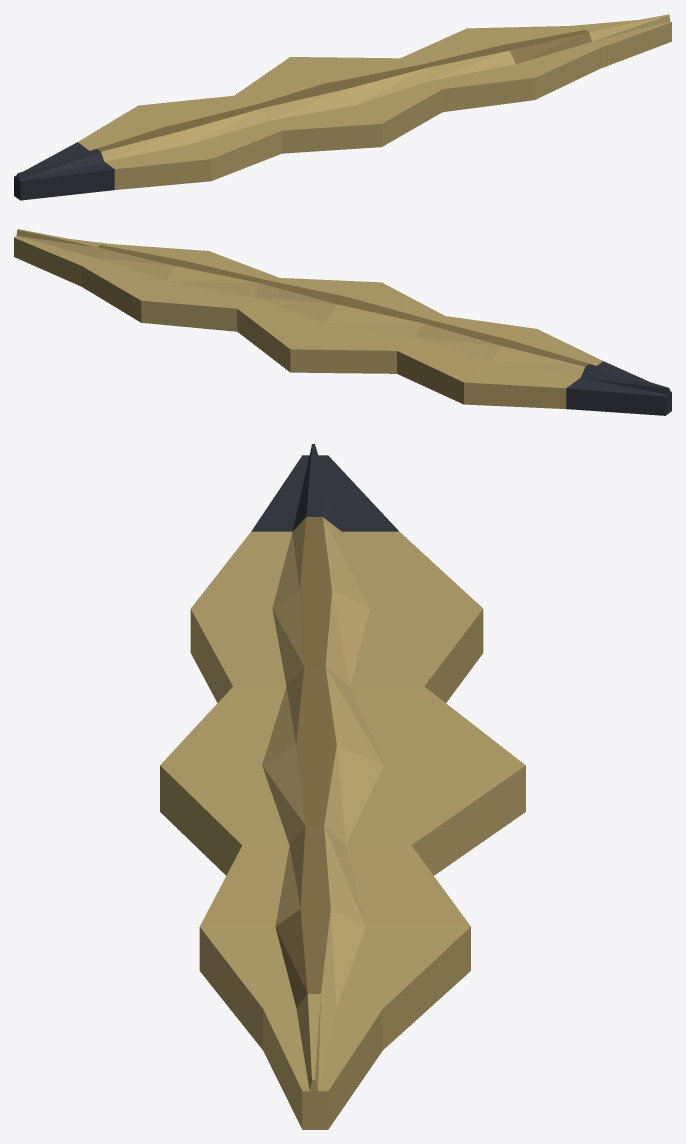
The model's file is feather.glb.
3 views of the same model, one above another, from view 1: azimuth 30°, elevation 25°; view 2: azimuth 150°, elevation 25°; view 3: azimuth 270°, elevation 25° (orthographic). The views are drawn at different scales.
Parts seen in each view (by area): view 1: feather; view 2: feather; view 3: feather.
Boxes of the visible parts, x1,y1,x2,y2 form: feather: (14,14,671,200); feather: (14,229,671,415); feather: (160,444,525,1129).
Size of the model in its own units: 0.12 by 0.0059 by 0.0292.
